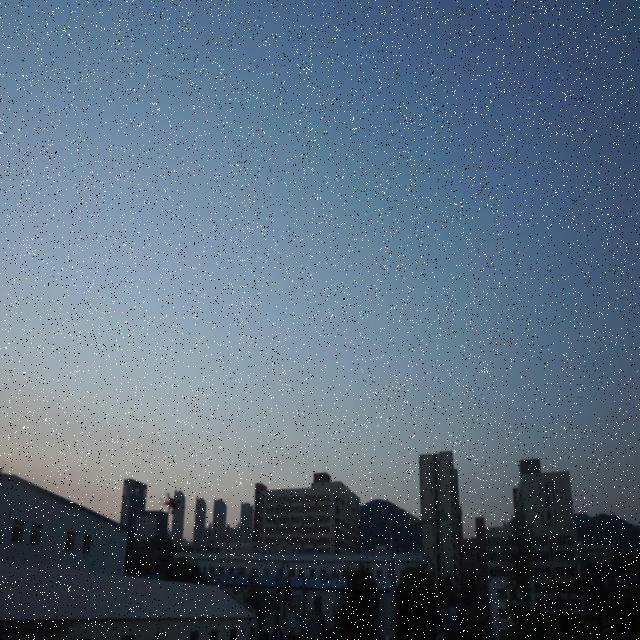UAV: (158, 492, 187, 518)
